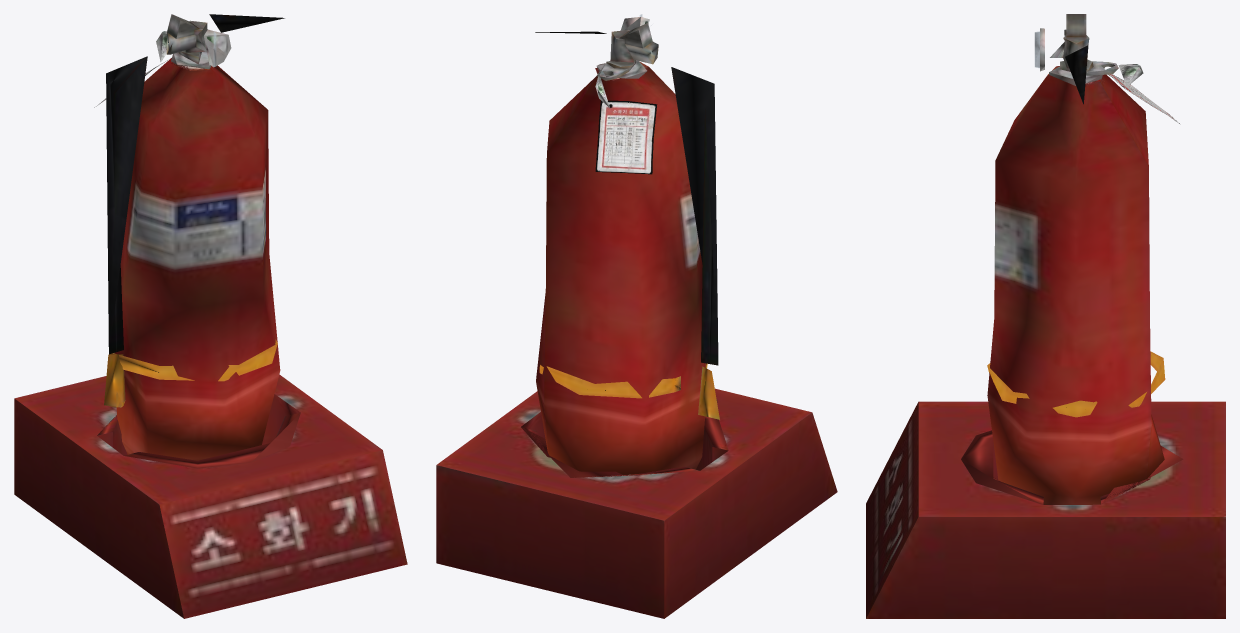
File: korean_fire_extinguisher_01.glb
The picture shows the model from 3 angles, left to right: view 1: azimuth 30°, elevation 25°; view 2: azimuth 150°, elevation 25°; view 3: azimuth 270°, elevation 25°; orthographic projection. The views are drawn at different scales.
Visible parts, largest first — view 1: korean_fire_extinguisher_01; view 2: korean_fire_extinguisher_01; view 3: korean_fire_extinguisher_01.
Boxes of the visible parts, <box> form: korean_fire_extinguisher_01: <box>14,14,407,618</box>; korean_fire_extinguisher_01: <box>436,14,837,618</box>; korean_fire_extinguisher_01: <box>866,14,1225,618</box>.
Size of the model in its own units: 0.279 by 0.6045 by 0.3674.
3 materials, 3 textured.
